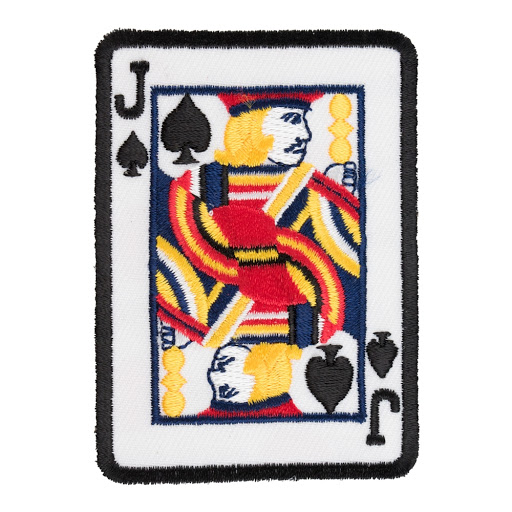jack of spades: (105, 41, 406, 467)
